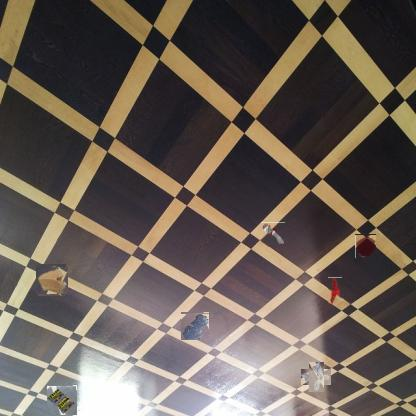dirty: (47, 386, 77, 416), (38, 265, 67, 295), (261, 222, 285, 247), (304, 366, 327, 388), (328, 277, 342, 304)
liquid: (182, 312, 210, 340), (355, 234, 376, 258)
